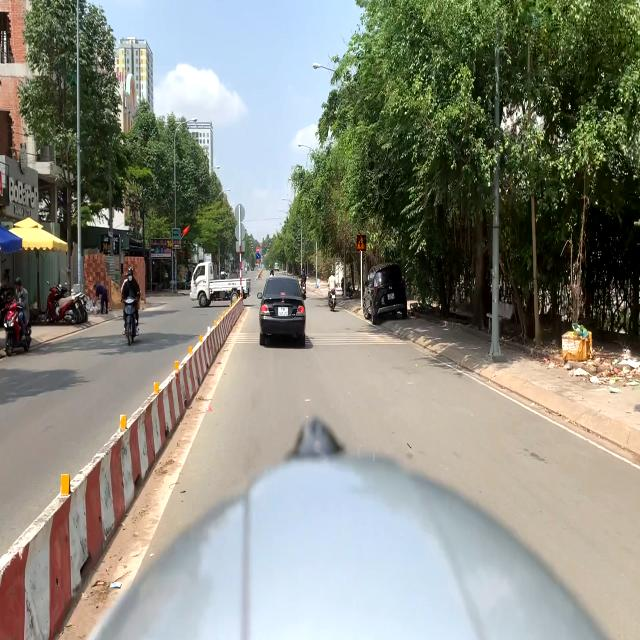27: (256, 253, 260, 259)
44: (357, 235, 366, 251)
bien_chi_dan: (256, 247, 260, 252)
